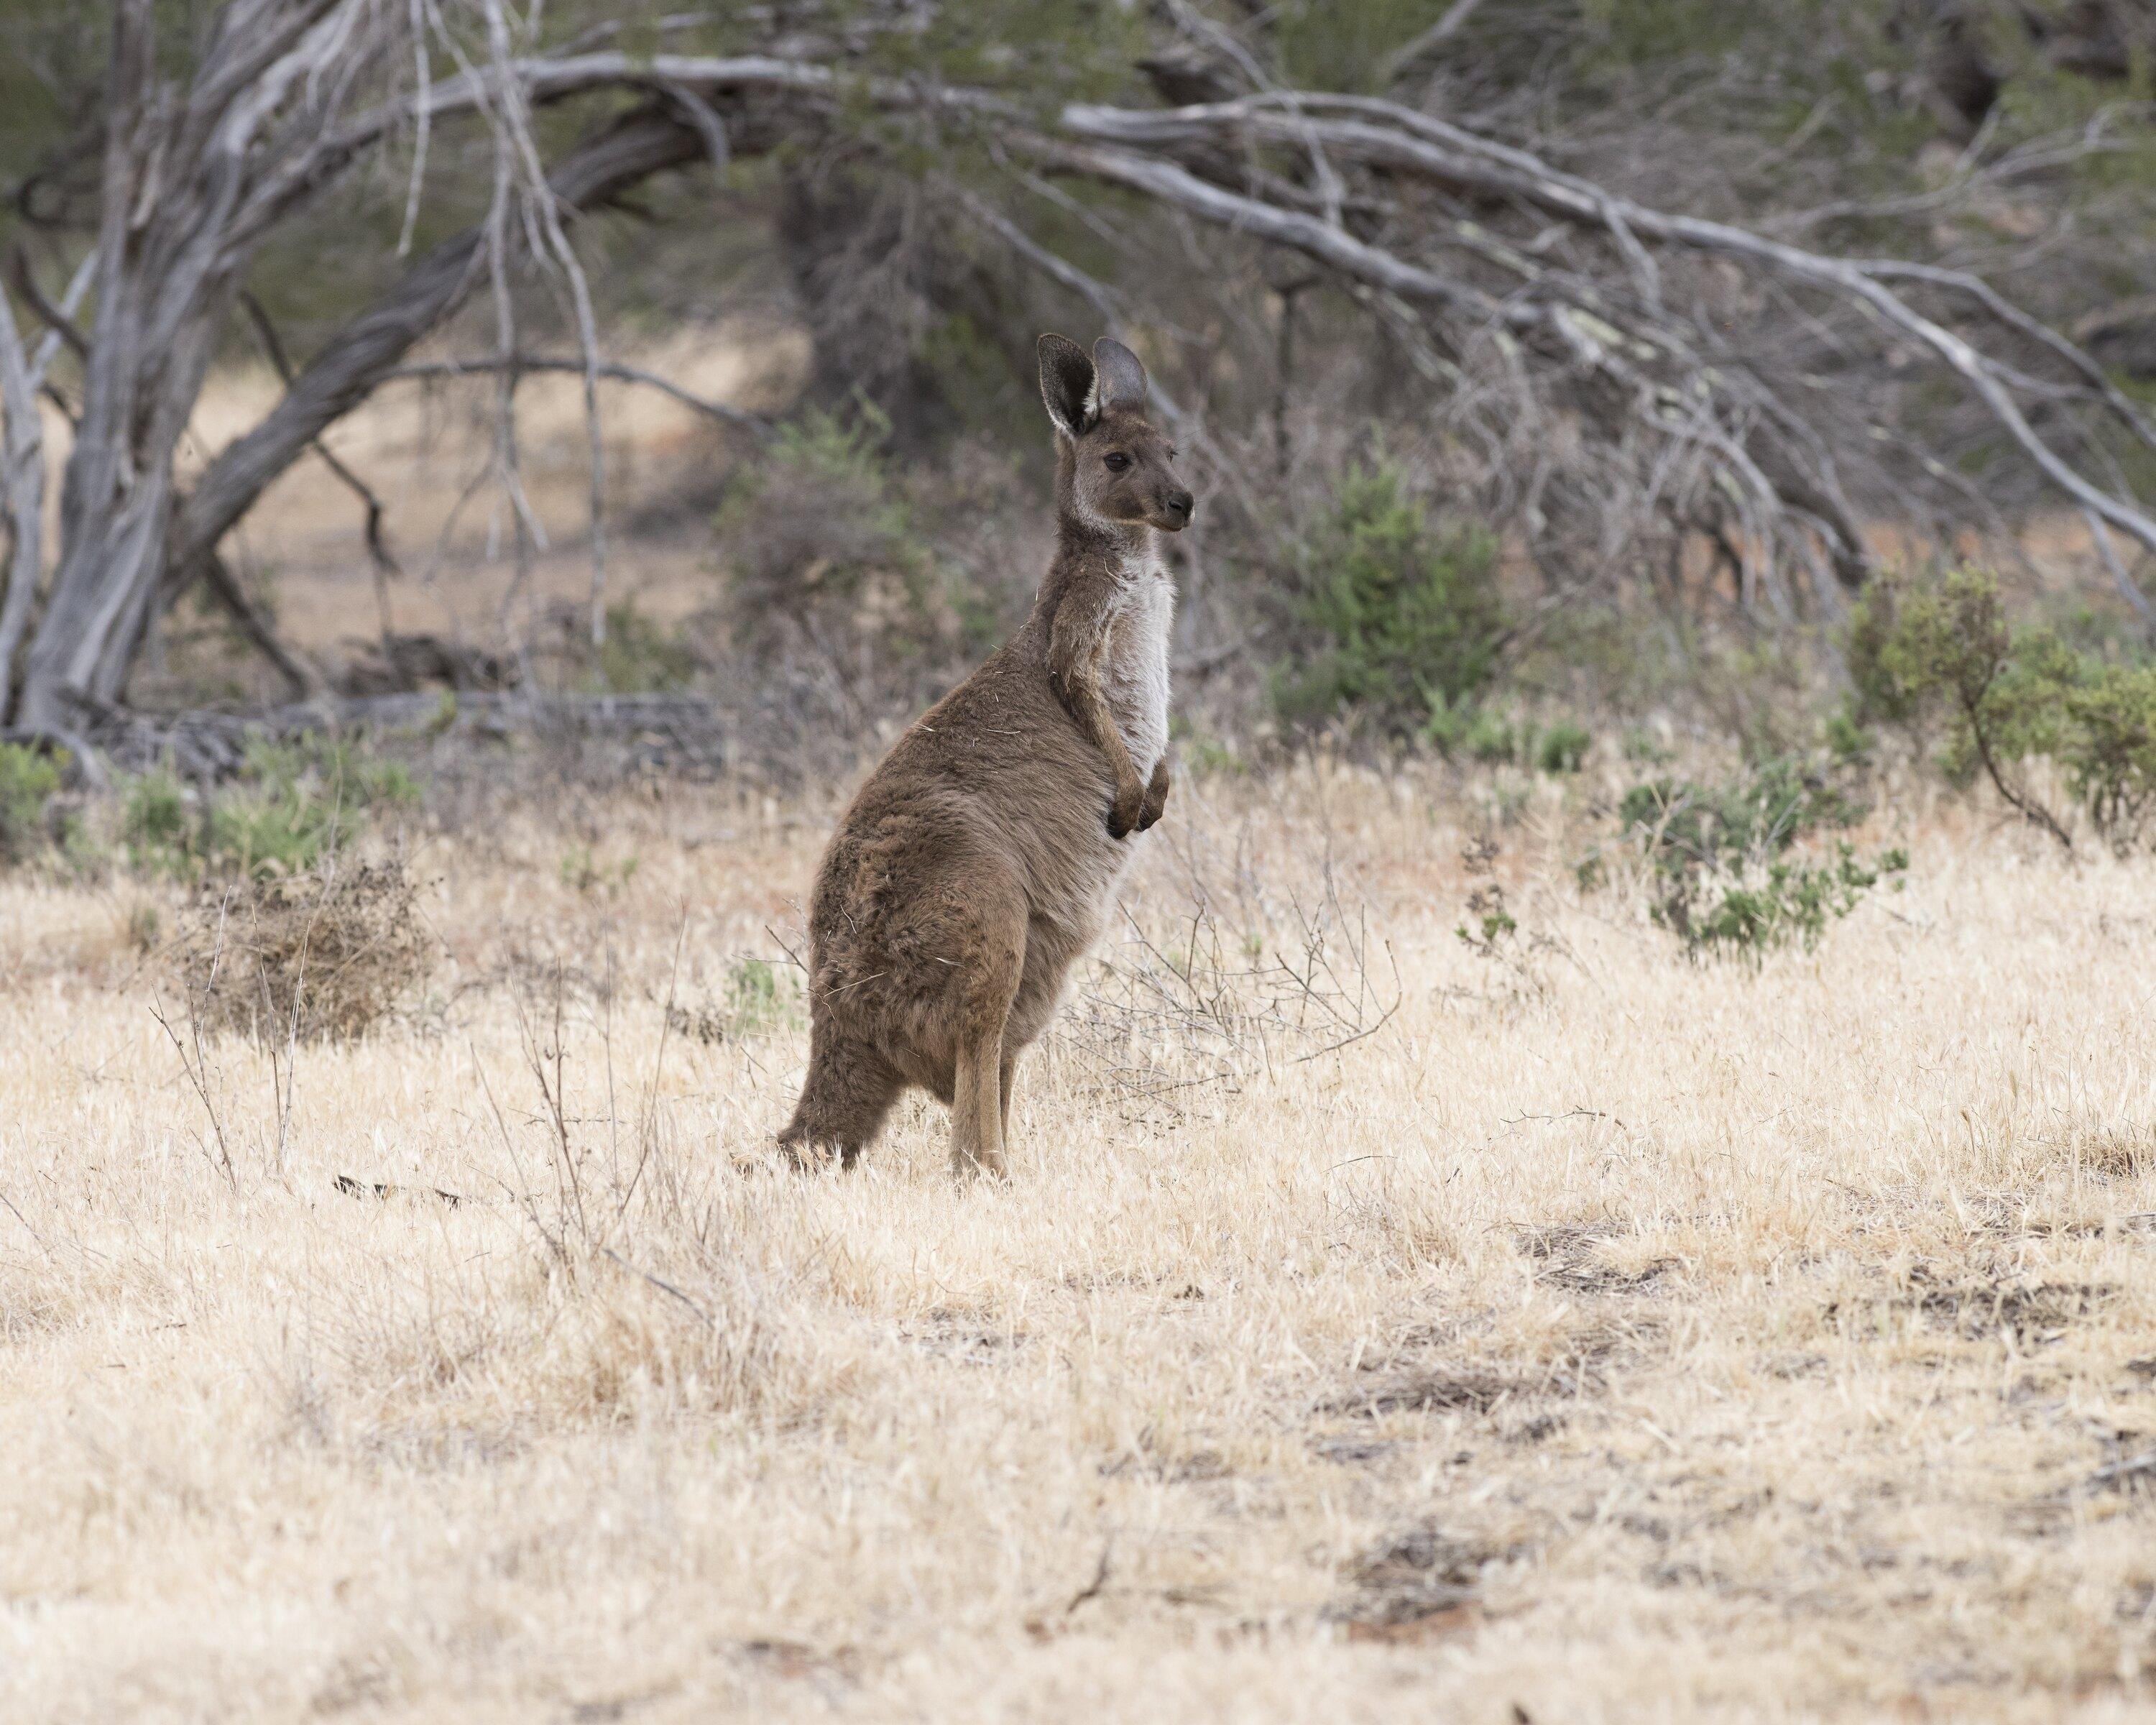Western grey kangaroo: (336, 308, 1239, 1220)
